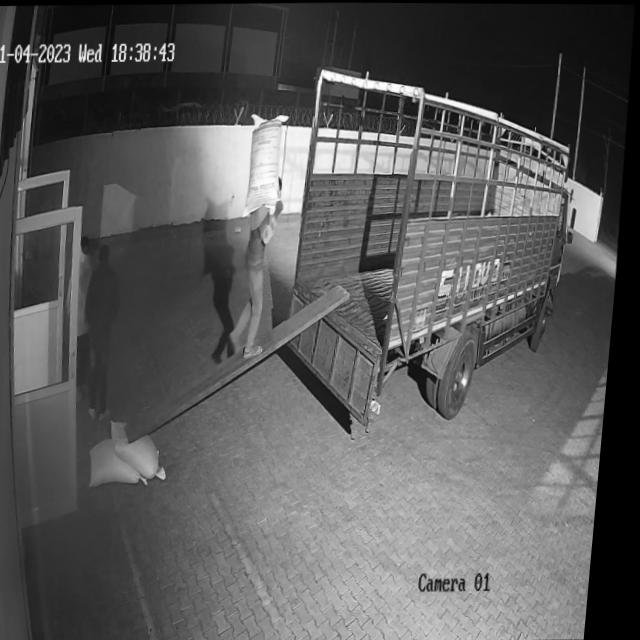sack: (244, 111, 293, 215), (113, 418, 177, 480), (94, 436, 159, 488)
